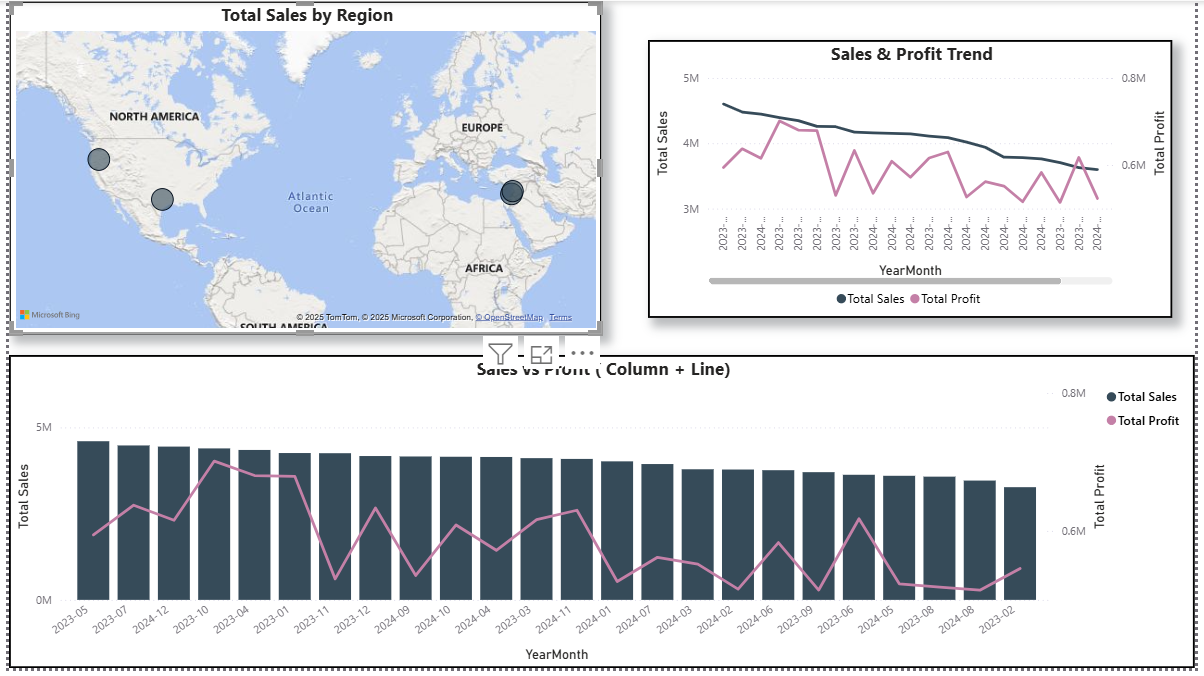

The page's visual inventory and layout, read from the dashboard file:
{"tool":"powerbi","page":{"name":"Trend Analysis","canvas":[1280,720],"ordinal":1},"visuals":[{"type":"lineChart","title":"Sales & Profit Trend","fields":{"Category":["DimDate.YearMonth"],"Y":["FactSales.Total Sales"],"Y2":["FactSales.Total Profit"]},"box":[690,42,566,300],"z":0},{"type":"lineStackedColumnComboChart","title":"Sales vs Profit ( Column + Line)","fields":{"Category":["DimDate.YearMonth"],"Y":["FactSales.Total Sales"],"Y2":["FactSales.Total Profit"]},"box":[0,382,1280,338],"z":1000},{"type":"map","fields":{"Category":["DimRegion.Region"],"Size":["FactSales.Total Sales"]},"box":[0,0,640,360],"z":2000}]}

Visuals, with their boxes in screenshot pixels (x1, y1, x2, y2), scaled from the page's 1280x720 canvas onto the 1204x676 screenshot:
"Sales & Profit Trend" lineChart: (649, 39, 1181, 321)
"Sales vs Profit ( Column + Line)" lineStackedColumnComboChart: (0, 359, 1203, 675)
map - DimRegion.Region x FactSales.Total Sales: (0, 0, 602, 338)
